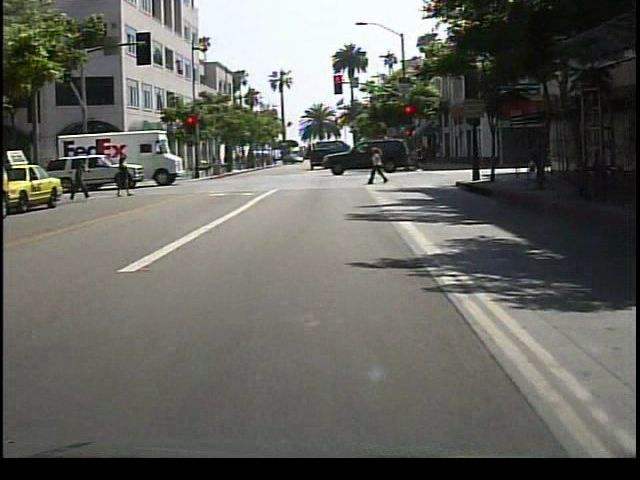person: (526, 136, 554, 190), (69, 158, 93, 204), (367, 146, 391, 186), (114, 153, 133, 201)
